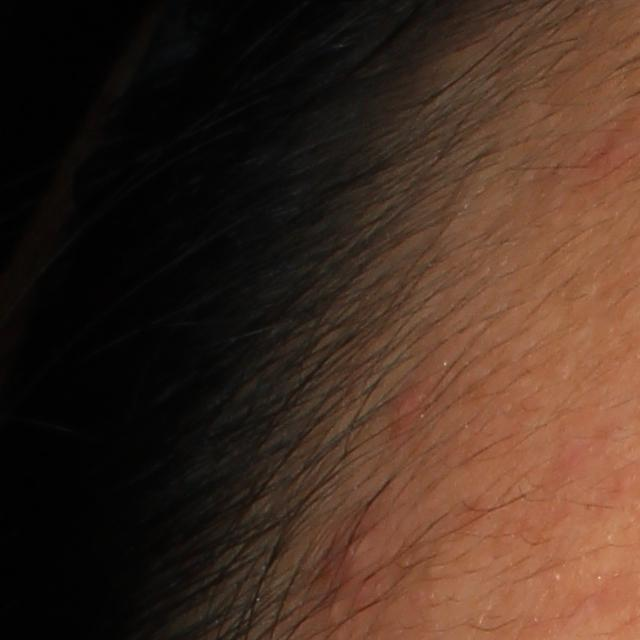papule: (333, 524, 386, 573), (386, 377, 432, 433)
